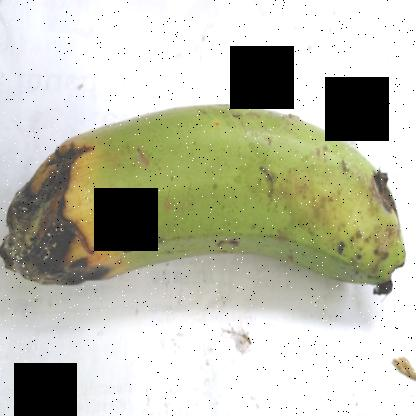rotten: (2, 100, 158, 318)
unripe: (108, 91, 409, 290)
